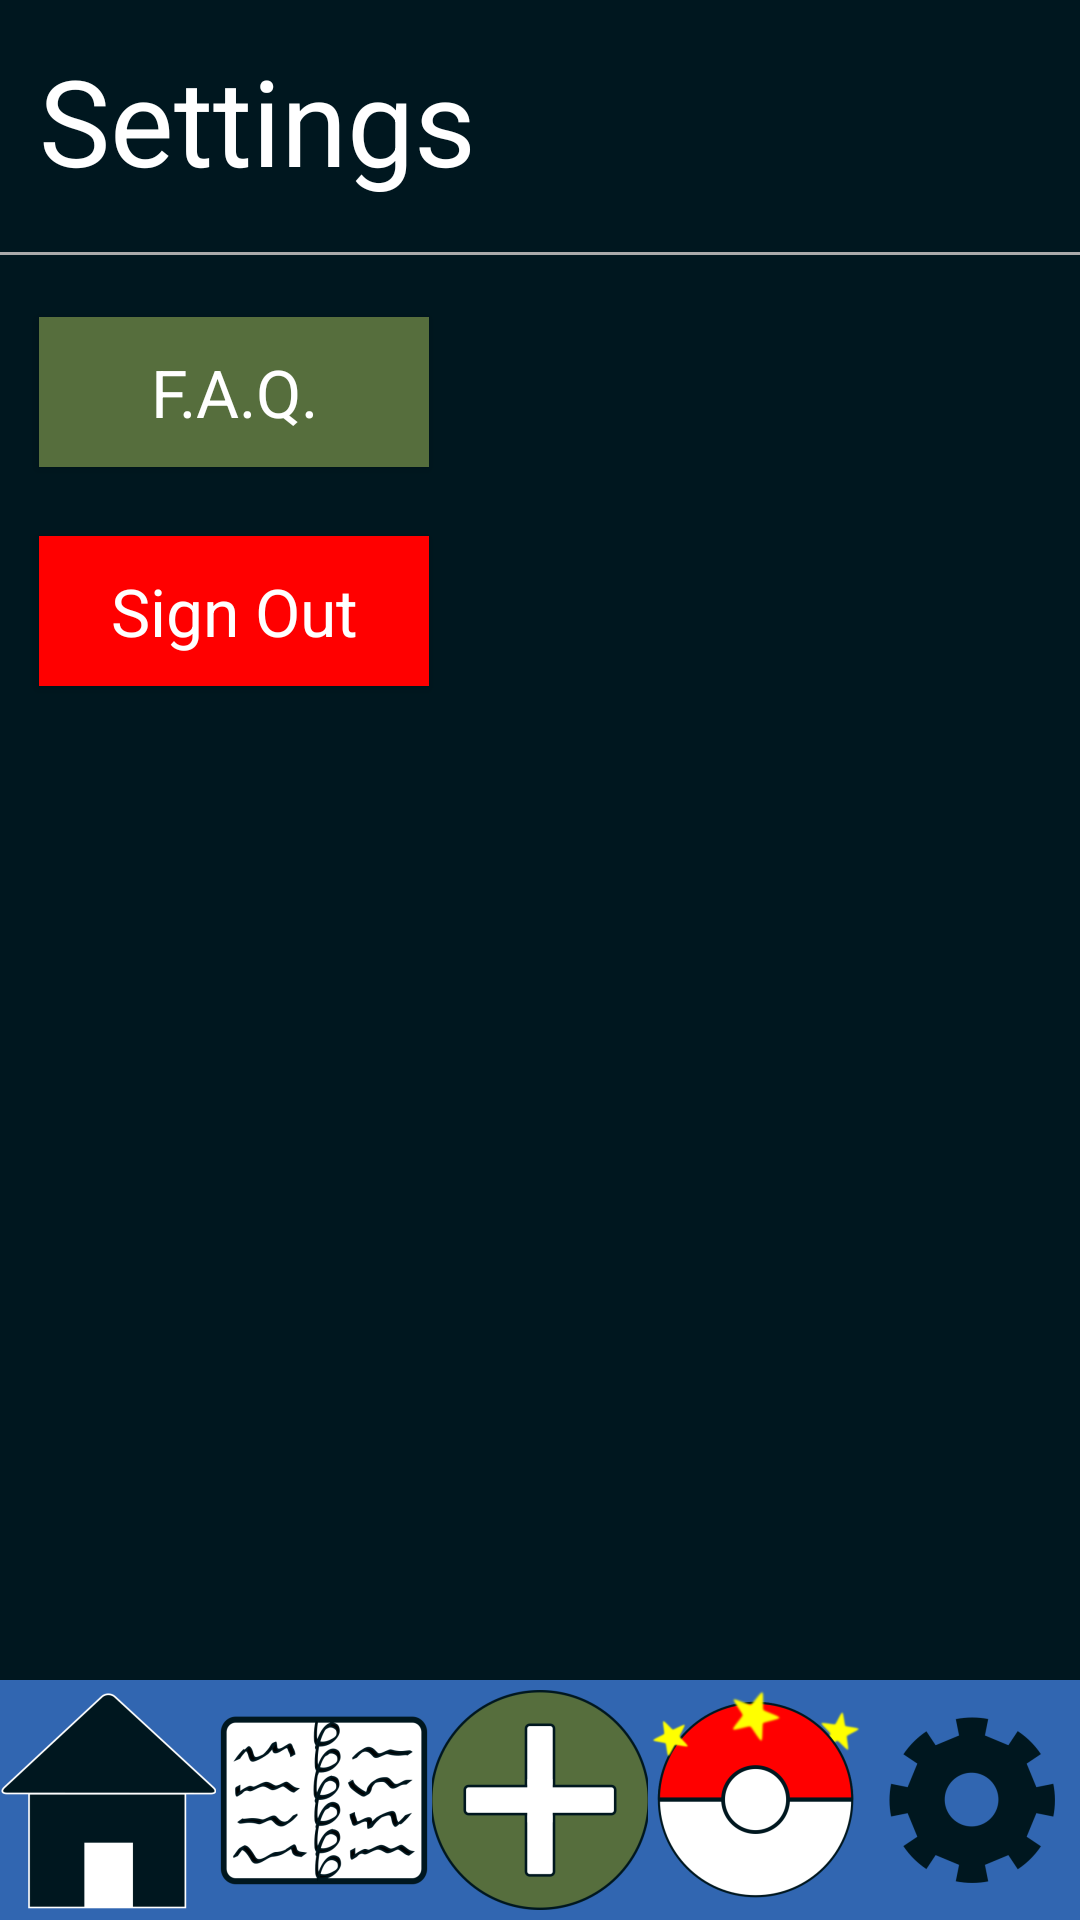

Where icons sit on this 1080 × 1920 app screen, as rect(x1, y1, x2, y2):
addpokemon: rect(432, 1690, 648, 1910)
home: rect(1, 1693, 216, 1909)
pokedex: rect(221, 1716, 427, 1885)
settings: rect(889, 1717, 1055, 1883)
